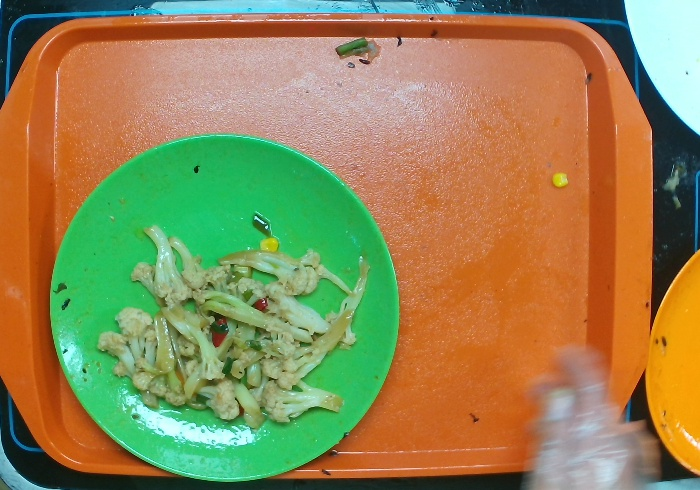HZYJPL-Lv_Se_Yuan_Pan: (47, 132, 401, 484)
